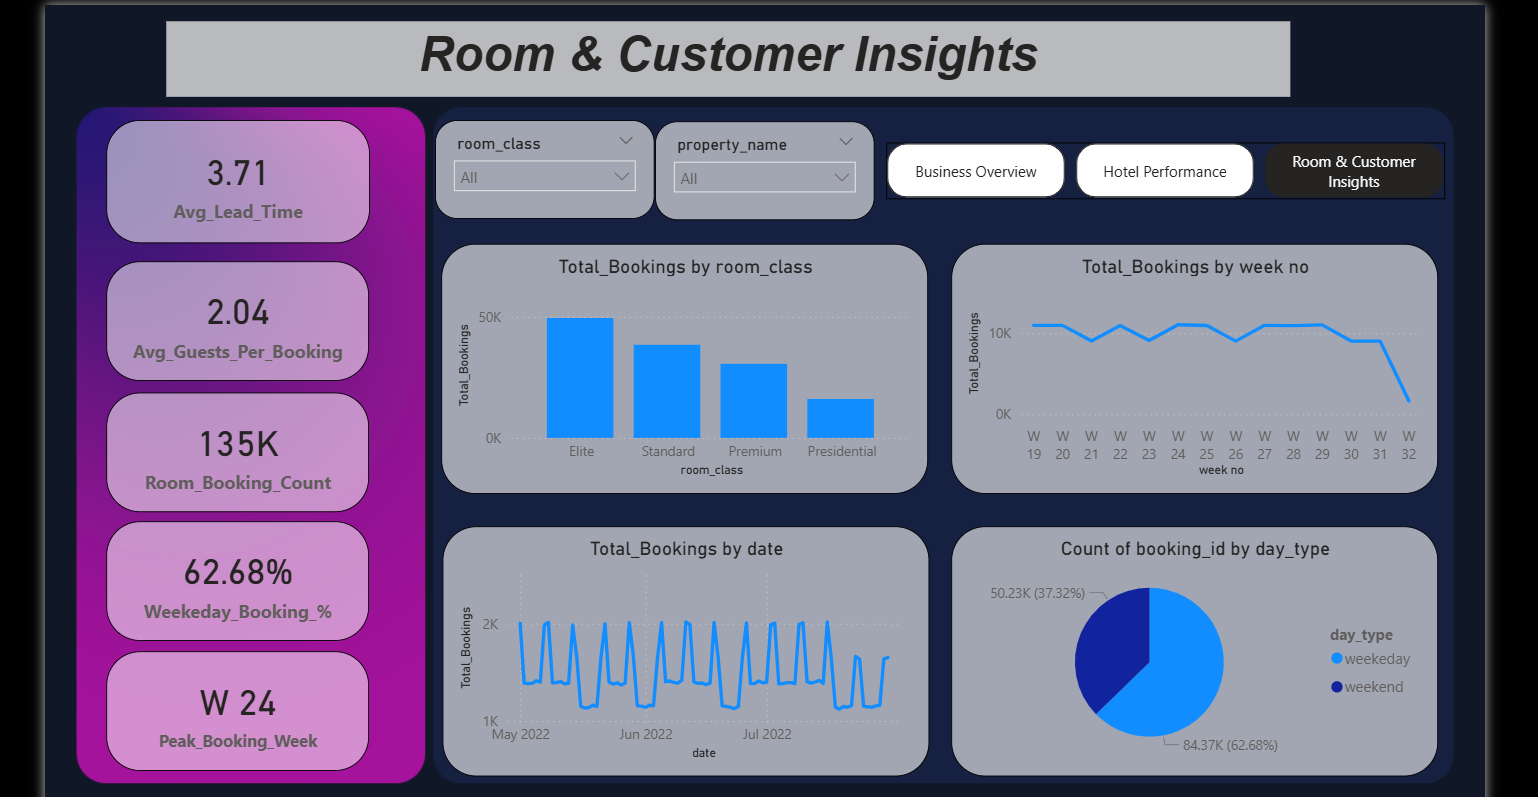

Layout of this report page (visuals, bound fields, positions):
{"tool":"powerbi","page":{"name":"Room & Customer Insights","canvas":[1280,720],"ordinal":2},"visuals":[{"type":"textbox","box":[107.4,14.5,998.9,67.6],"z":0},{"type":"card","fields":{"Values":["Measures_3.Avg_Lead_Time"]},"box":[54.3,102.5,234,109.8],"z":1000},{"type":"card","fields":{"Values":["Measures_3.Avg_Guests"]},"box":[54.8,228,233.7,106.8],"z":2000},{"type":"card","fields":{"Values":["Measures_3.Room_Booking_Count"]},"box":[54.8,344.8,233.7,106.8],"z":3000},{"type":"card","fields":{"Values":["Measures_3.Peak_Booking_Week"]},"box":[54.8,574.2,233.7,106.8],"z":4000},{"type":"card","fields":{"Values":["Measures_3.Weekend_Booking_Pct"]},"box":[54.8,458.8,233.7,106.8],"z":5000},{"type":"columnChart","fields":{"Category":["dim_rooms.room_class"],"Y":["Measures_1.Total_Bookings"]},"box":[352,212.1,432.8,222.2],"z":6000},{"type":"lineChart","fields":{"Category":["dim_date.week no"],"Y":["Measures_1.Total_Bookings"]},"box":[805.1,212.1,432.8,222.2],"z":7000},{"type":"lineChart","fields":{"Category":["dim_date.date"],"Y":["Measures_1.Total_Bookings"]},"box":[353.4,463.3,432.7,222.6],"z":8000},{"type":"pieChart","fields":{"Category":["dim_date.day_type"],"Y":["CountNonNull(fact_bookings.booking_id)"]},"box":[805.1,463.1,432.8,222.2],"z":9000},{"type":"slicer","fields":{"Values":["dim_hotels.property_name"]},"box":[541.7,103.8,195.4,88.1],"z":13000},{"type":"pageNavigator","box":[748,121.9,497.1,50.7],"z":14000},{"type":"slicer","fields":{"Values":["dim_rooms.room_class"]},"box":[346.2,102.5,195.4,88.1],"z":14001}]}

Visuals, with their boxes on the page's 1280x720 design canvas (x1, y1, x2, y2). These are canvas units, not pixel positions in the 1538x797 screenshot, which may show the page scaled, cropped or inside an application window:
textbox: bbox=[107, 14, 1106, 82]
card - Measures_3.Avg_Lead_Time: bbox=[54, 102, 288, 212]
card - Measures_3.Avg_Guests: bbox=[55, 228, 288, 335]
card - Measures_3.Room_Booking_Count: bbox=[55, 345, 288, 452]
card - Measures_3.Peak_Booking_Week: bbox=[55, 574, 288, 681]
card - Measures_3.Weekend_Booking_Pct: bbox=[55, 459, 288, 566]
columnChart - dim_rooms.room_class x Measures_1.Total_Bookings: bbox=[352, 212, 785, 434]
lineChart - dim_date.week no x Measures_1.Total_Bookings: bbox=[805, 212, 1238, 434]
lineChart - dim_date.date x Measures_1.Total_Bookings: bbox=[353, 463, 786, 686]
pieChart - dim_date.day_type x CountNonNull(fact_bookings.booking_id): bbox=[805, 463, 1238, 685]
slicer - dim_hotels.property_name: bbox=[542, 104, 737, 192]
pageNavigator: bbox=[748, 122, 1245, 173]
slicer - dim_rooms.room_class: bbox=[346, 102, 542, 191]
